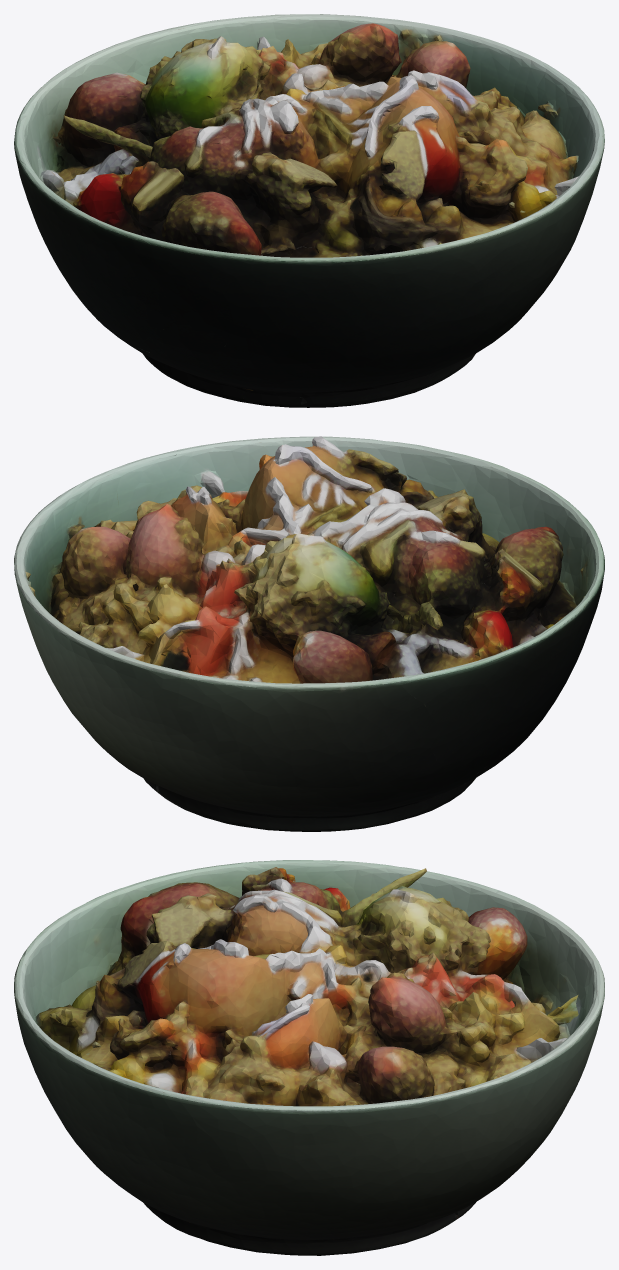
The model's file is Undhiyu.glb.
The picture shows the model from 3 angles, top to bottom: view 1: azimuth 30°, elevation 25°; view 2: azimuth 150°, elevation 25°; view 3: azimuth 270°, elevation 25°; orthographic projection.
Parts seen in each view (by area): view 1: world; view 2: world; view 3: world.
Boxes of the visible parts, x1,y1,x2,y2 form: world: (14, 14, 604, 407); world: (14, 436, 604, 831); world: (14, 860, 604, 1255).
Bounding box in the file's own units: 1 × 0.5083 × 0.9993.
1 material, 1 textured.
